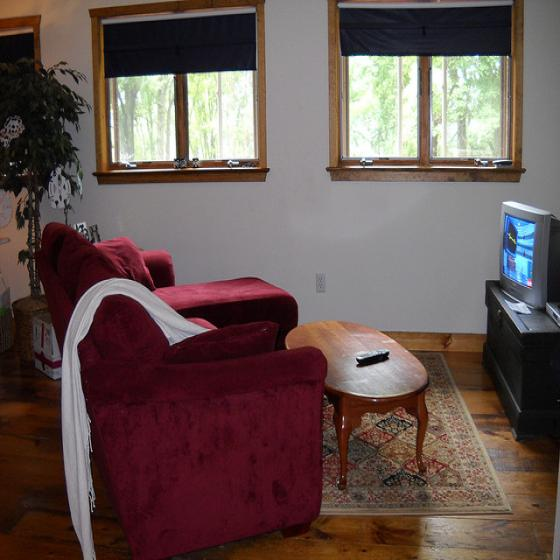couch: (38, 218, 325, 553)
dining table: (286, 317, 431, 489)
potted plant: (0, 58, 94, 363)
remote: (355, 348, 390, 364)
tv: (499, 200, 560, 311)
